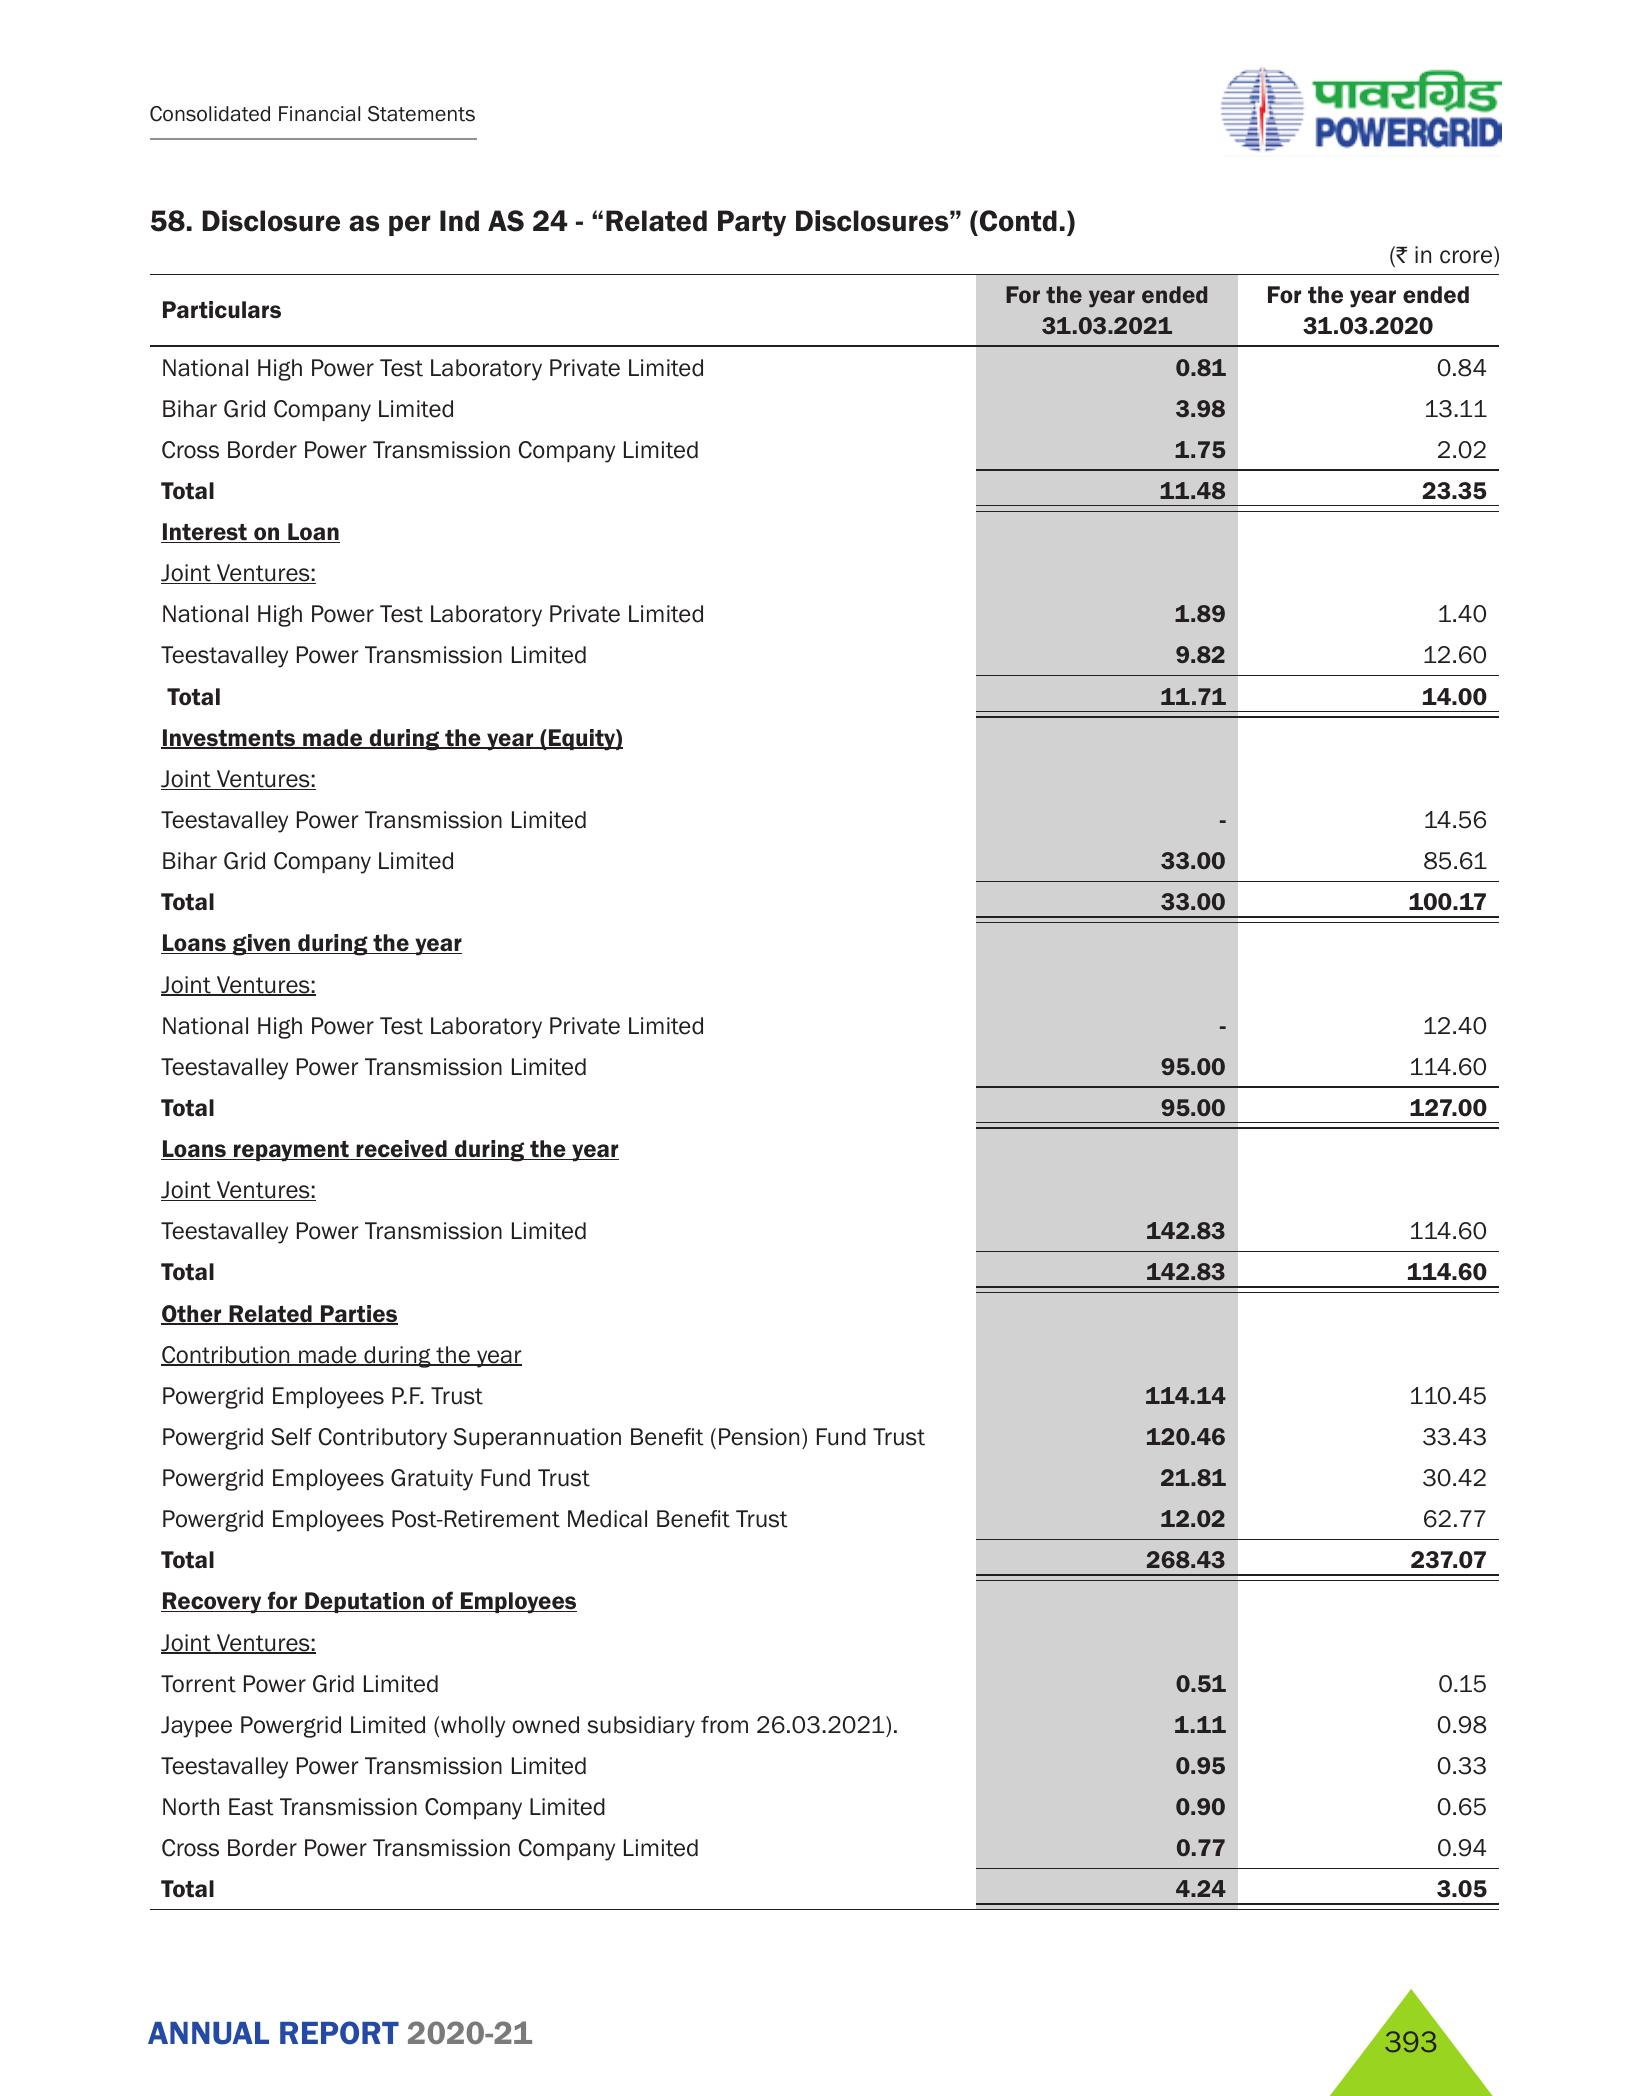Footer: (0, 1953, 1650, 2096)
Header: (0, 0, 1650, 163)
Table: (94, 274, 1528, 1907)
